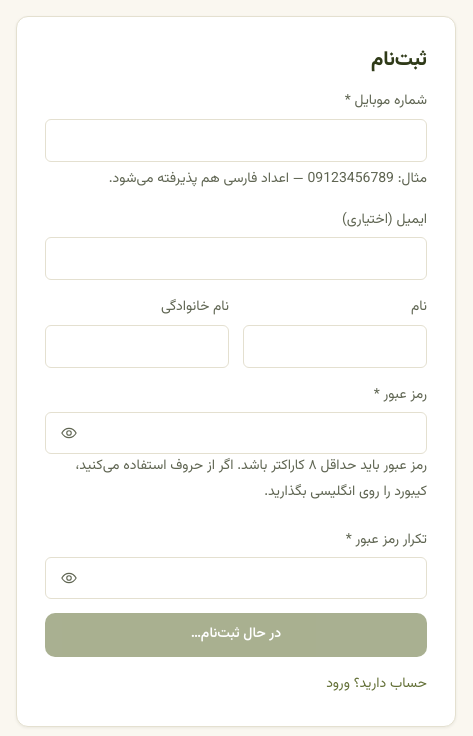
Test: RegisterPage form hygiene (S2.5) › normalizes Persian digits in the phone field as the user types
Type "۰۹۱۲ ۱۱۱۲۲۳۳" into the field labelled "شماره موبایل" at (236, 140), box [45,119,427,162]
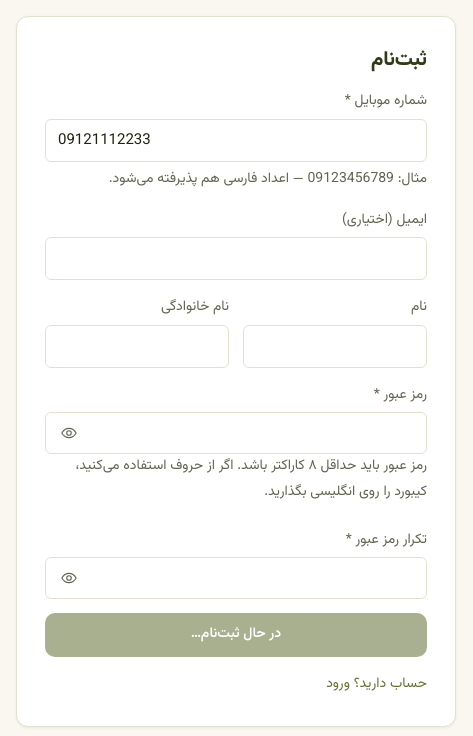
Check: the field labelled "شماره موبایل" holds "09121112233", box [45,119,427,162]
